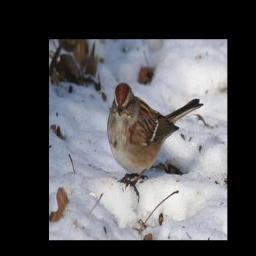Sparrow: (106, 78, 205, 205)
